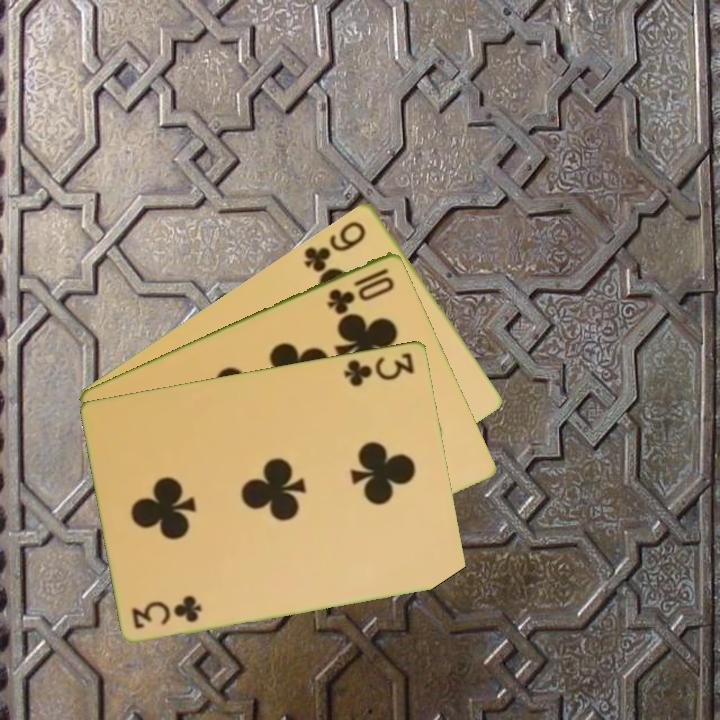10c: (324, 263, 398, 316)
3c: (340, 348, 417, 389), (128, 593, 205, 631)
9c: (300, 216, 369, 275)
